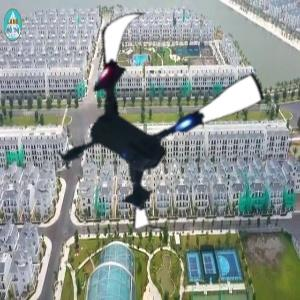drone: (37, 1, 264, 228)
